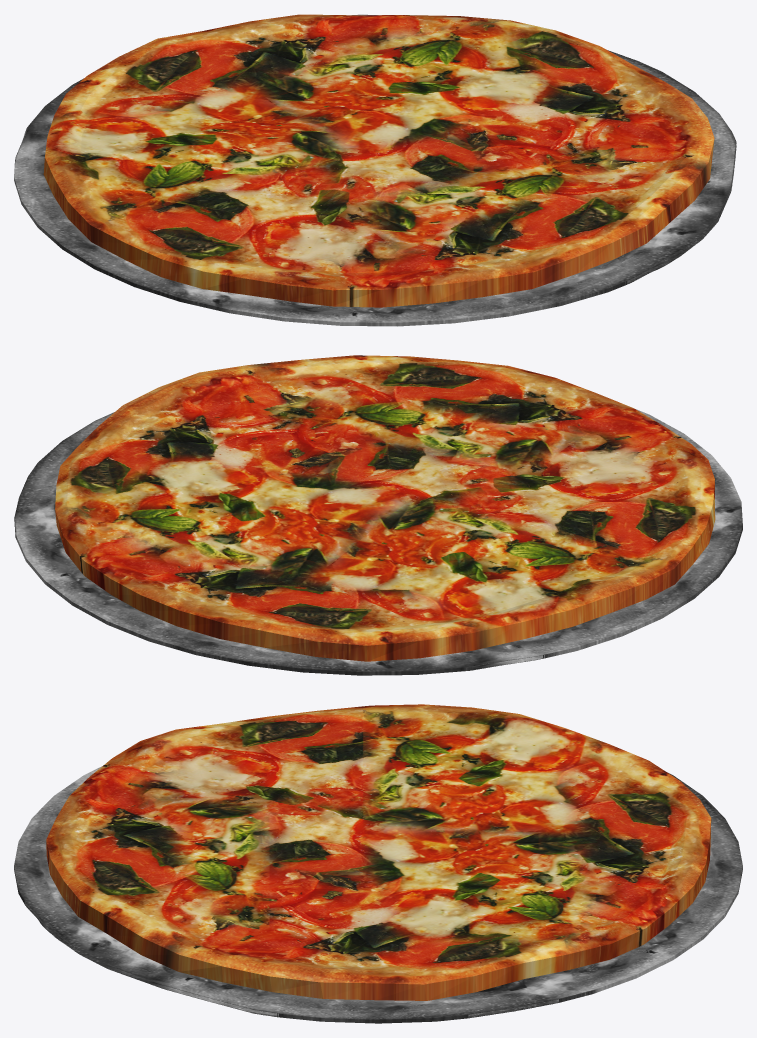
Rendered from pizza.dae.
The picture shows the model from 3 angles, top to bottom: view 1: azimuth 30°, elevation 25°; view 2: azimuth 150°, elevation 25°; view 3: azimuth 270°, elevation 25°; orthographic projection.
Parts seen in each view (by area): view 1: pizza, Pizza_Card; view 2: pizza, Pizza_Card; view 3: pizza, Pizza_Card.
Boxes of the visible parts, <box> form: pizza: <box>43,14,714,307</box>; Pizza_Card: <box>14,14,736,326</box>; pizza: <box>55,355,715,661</box>; Pizza_Card: <box>14,409,742,675</box>; pizza: <box>46,704,711,1000</box>; Pizza_Card: <box>14,766,742,1023</box>.
Bounding box in the file's own units: 1.98 × 1.98 × 0.0957.
Materials: 2 (2 with a texture image).
